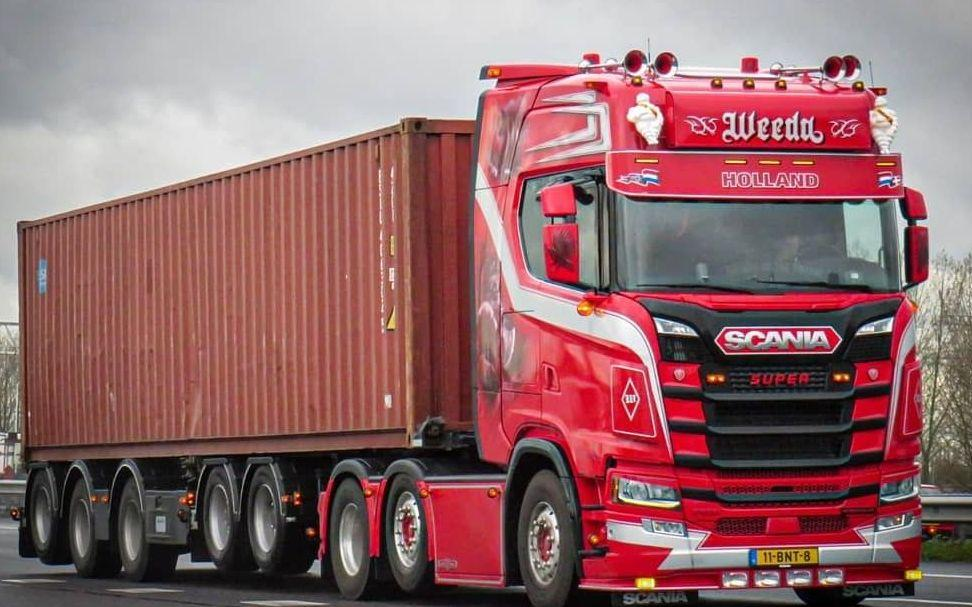truck: (8, 48, 929, 598)
